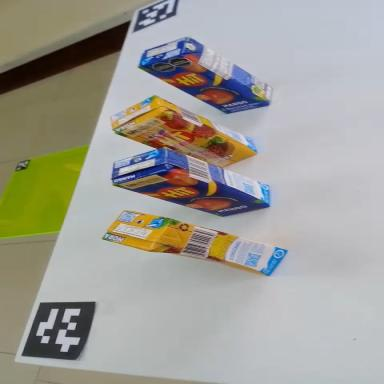HIT-MANGO: (109, 135, 277, 231), (137, 22, 277, 135)
HIT-MORA: (106, 84, 263, 185), (102, 202, 288, 286)
cara_F: (116, 98, 257, 189), (138, 39, 270, 133), (113, 157, 272, 228)
